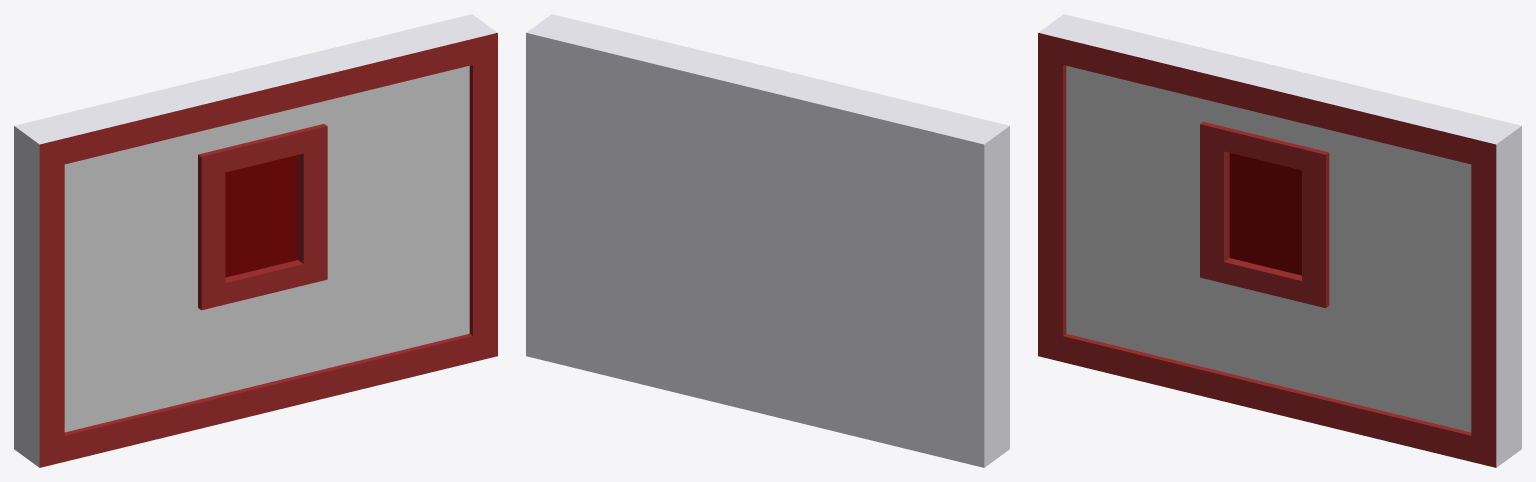
Rendered from Asian_Prop_Building_Modular_Wall_Window_01.FBX.
3 renders of one model, left to right at view 1: azimuth 30°, elevation 25°; view 2: azimuth 150°, elevation 25°; view 3: azimuth 330°, elevation 25°, orthographic.
Visible parts, largest first — view 1: Asian_Prop_Building_Modular_Wall_Window_01; view 2: Asian_Prop_Building_Modular_Wall_Window_01; view 3: Asian_Prop_Building_Modular_Wall_Window_01.
Boxes of the visible parts, box(x1,y1,x2,y2) form: Asian_Prop_Building_Modular_Wall_Window_01: box(14, 14, 497, 467); Asian_Prop_Building_Modular_Wall_Window_01: box(526, 14, 1009, 467); Asian_Prop_Building_Modular_Wall_Window_01: box(1038, 14, 1521, 467).
Bounding box in the file's own units: 5167 × 3485 × 500.
